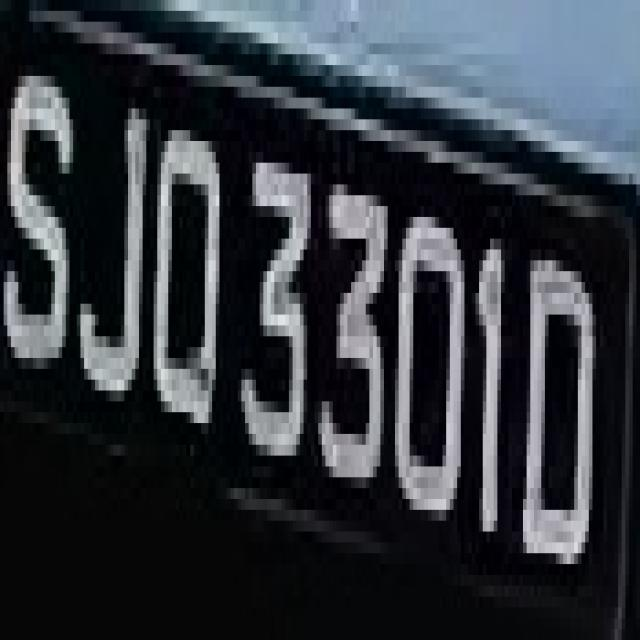0: (388, 163, 464, 553)
1: (472, 184, 504, 564)
3: (311, 119, 388, 532), (234, 119, 315, 499)
D: (512, 228, 607, 596)
J: (73, 65, 150, 423)
Q: (150, 87, 234, 456)
S: (7, 32, 73, 390)
